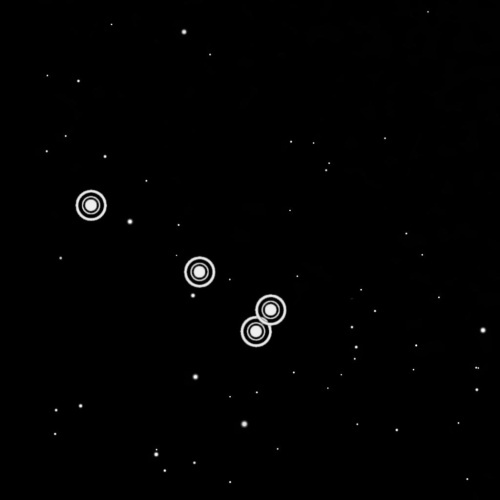sagitta: (68, 178, 296, 353)
